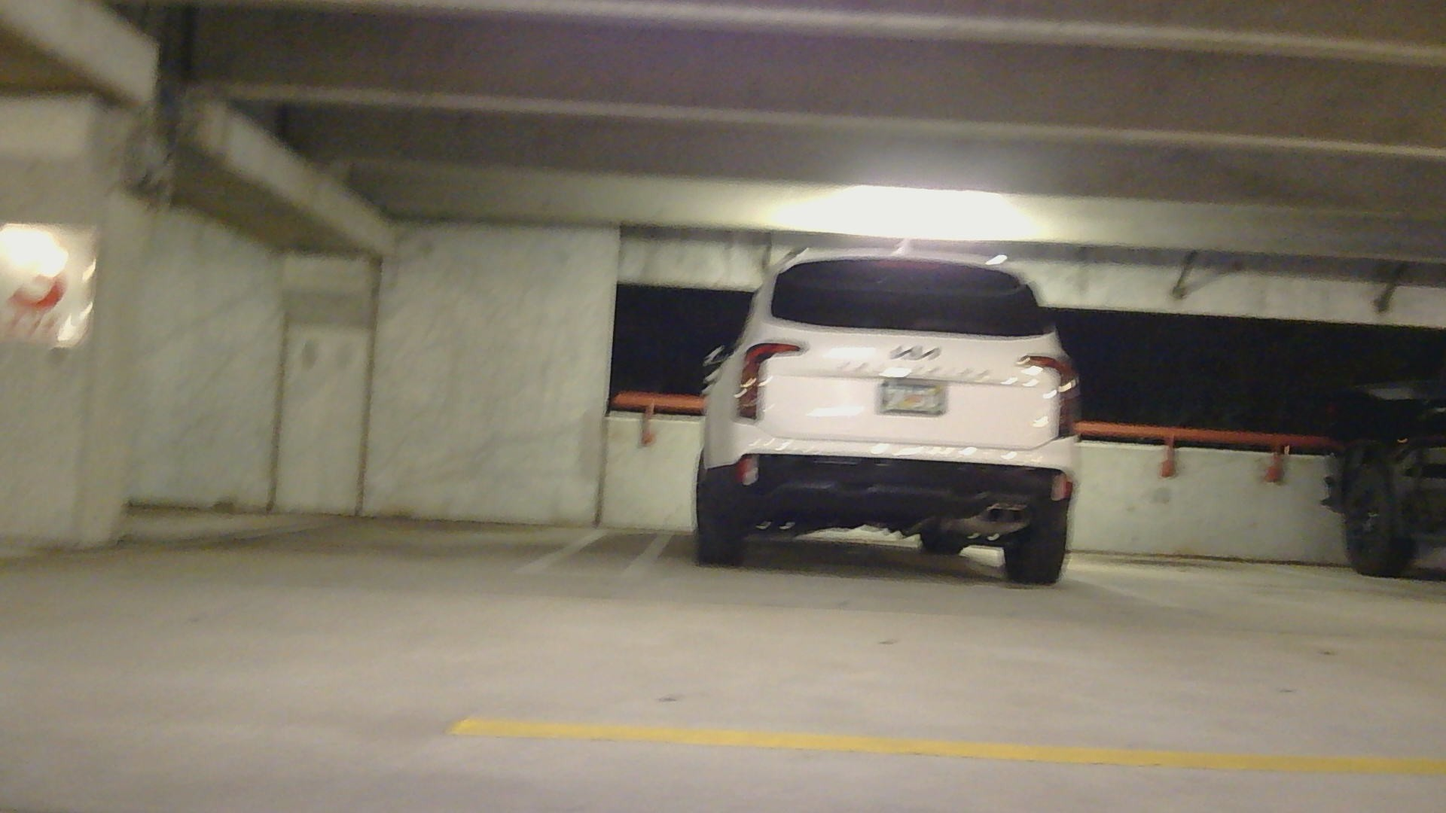empty_spot: (51, 428, 644, 583), (1066, 462, 1446, 628)
occupied_spot: (689, 228, 1092, 598), (1331, 340, 1445, 591)
